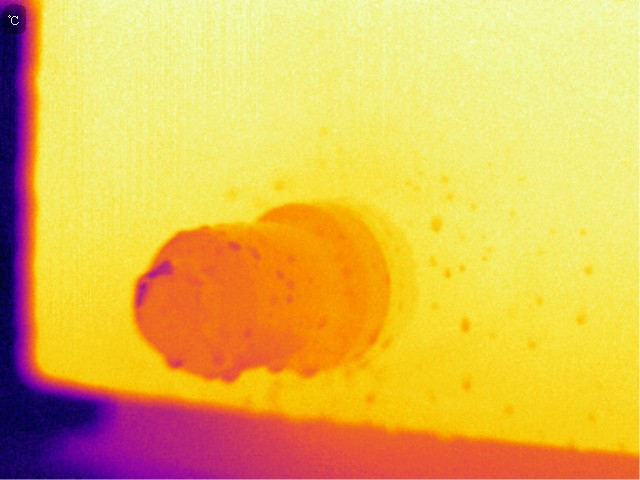Water: (219, 368, 244, 384), (296, 364, 317, 382), (268, 359, 289, 376), (165, 357, 184, 370), (225, 241, 244, 253), (251, 247, 263, 263), (274, 268, 286, 278), (285, 282, 298, 290)
